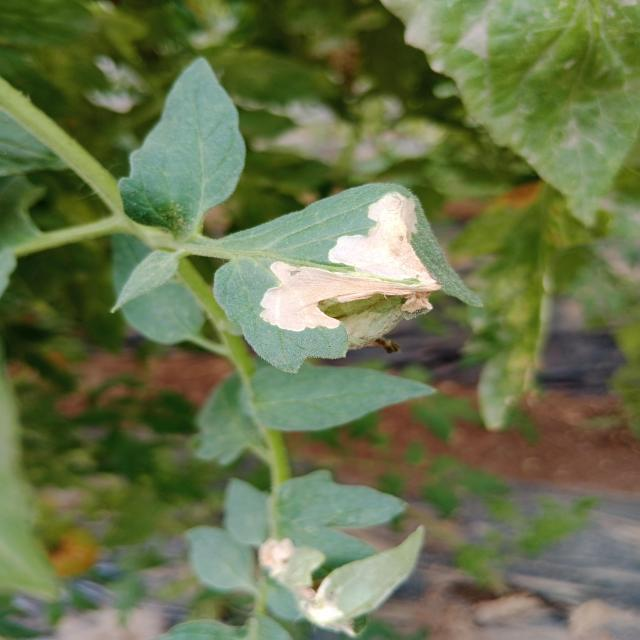Tuta absoluta: (239, 186, 457, 378)
